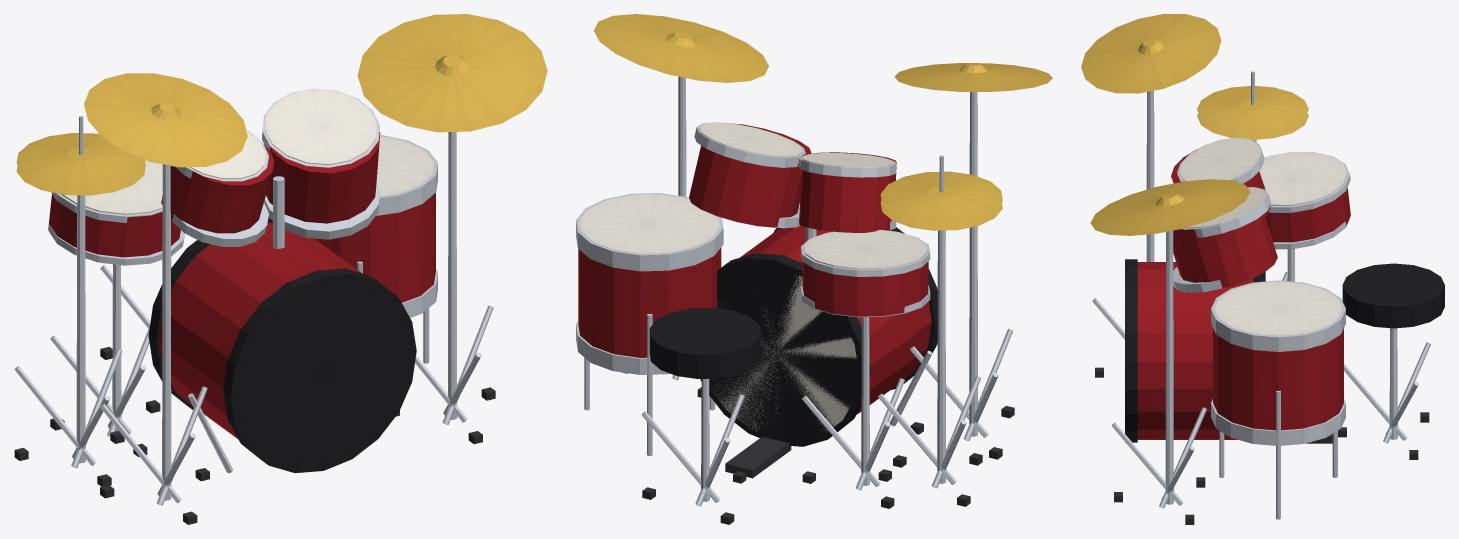
Rendered from DrumKit_Prop.fbx.
3 renders of one model, left to right at view 1: azimuth 30°, elevation 25°; view 2: azimuth 150°, elevation 25°; view 3: azimuth 270°, elevation 25°, orthographic. The views are drawn at different scales.
Parts seen in each view (by area): view 1: DrumKit_Prop; view 2: DrumKit_Prop; view 3: DrumKit_Prop.
Boxes of the visible parts, <box> form: DrumKit_Prop: <box>14,14,547,524</box>; DrumKit_Prop: <box>576,14,1052,524</box>; DrumKit_Prop: <box>1081,14,1444,524</box>.
Bounding box in the file's own units: 1.43 × 1.18 × 1.14.
1 material, 1 textured.
